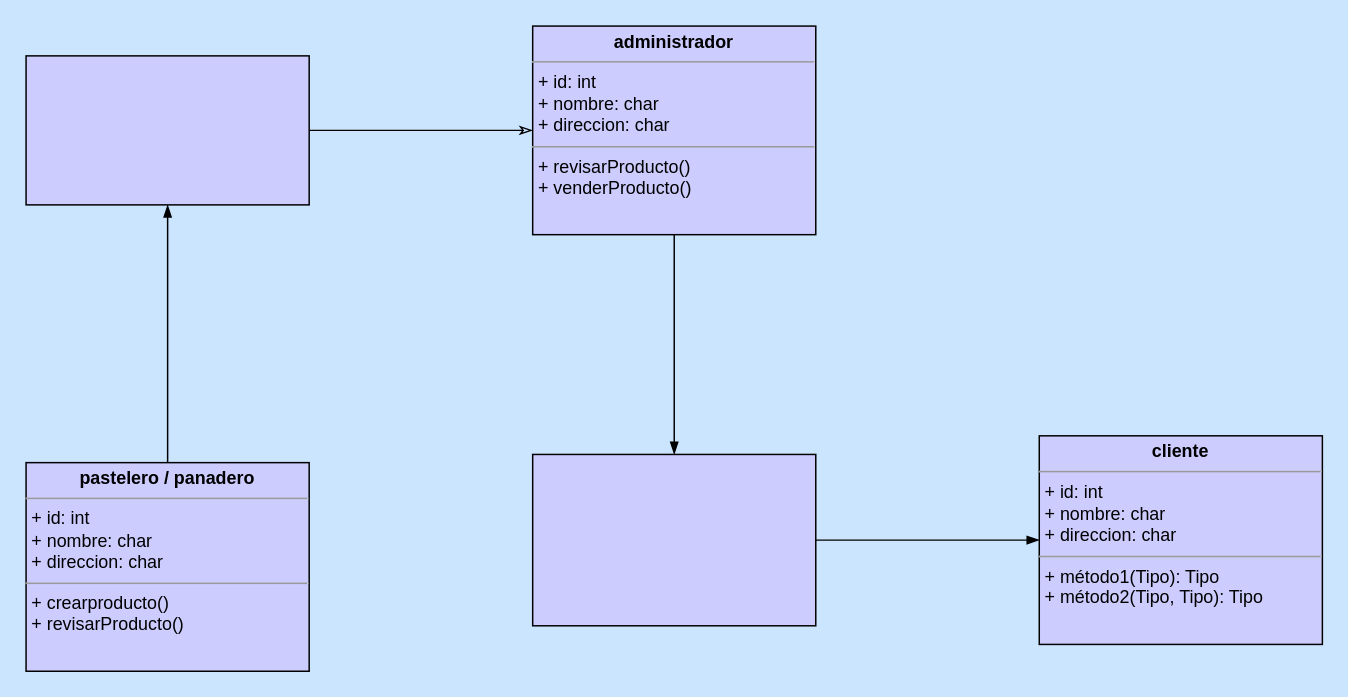
Image size: 1348x697. Some labels were removed from this diagram. The shapes that lost their labels are listed below. From the top down, each one's box as (x1, y1, x2, y2) in pixels, then its label:
(25, 54, 309, 205): producto + id: int + nombre: char + stock: int + precio: decimal
(531, 453, 816, 626): boleta + id: int + producto: char + agregarProducto() + PrecioTotal()
